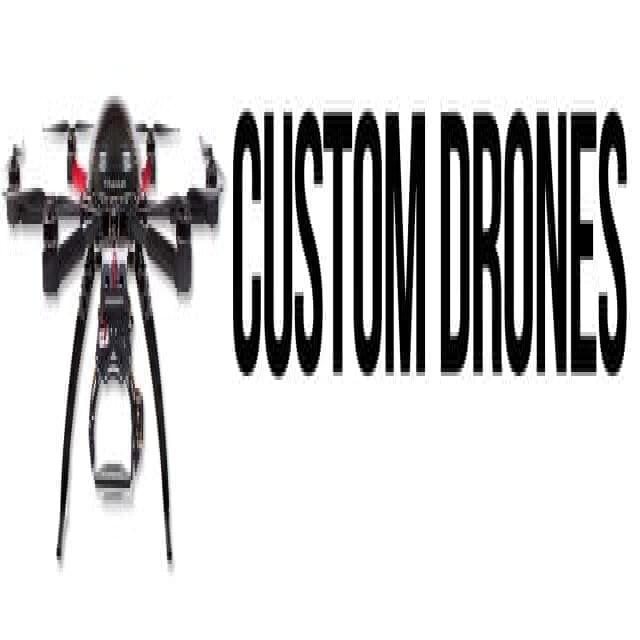drone: (1, 36, 232, 432)
